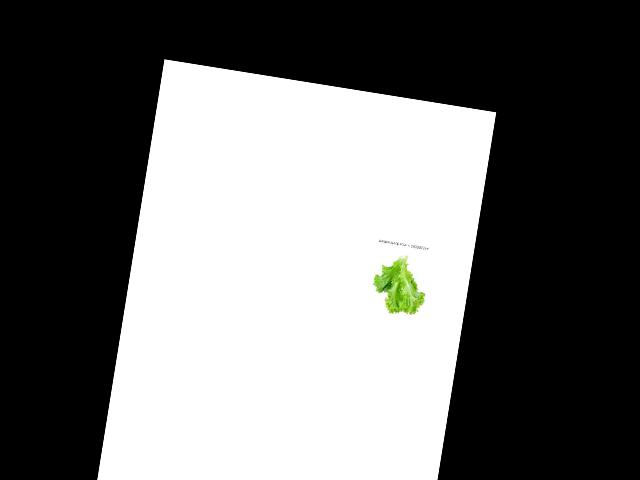lettuce: (367, 247, 431, 319)
